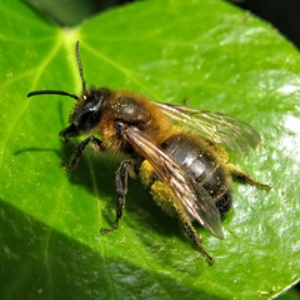bee: (52, 43, 265, 257)
